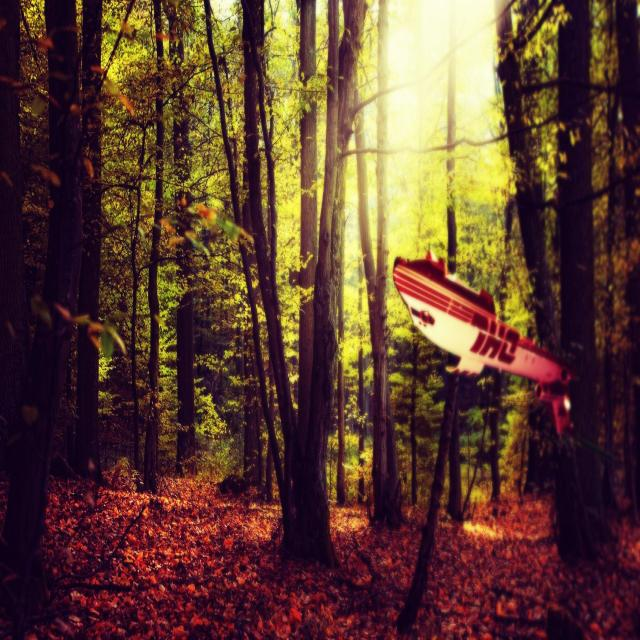airplane: (392, 249, 579, 437)
